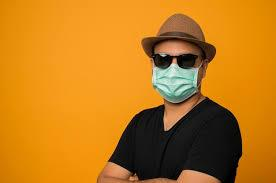cap: (139, 10, 224, 66)
mask: (145, 62, 203, 106)
sunglasses: (153, 50, 200, 72)
